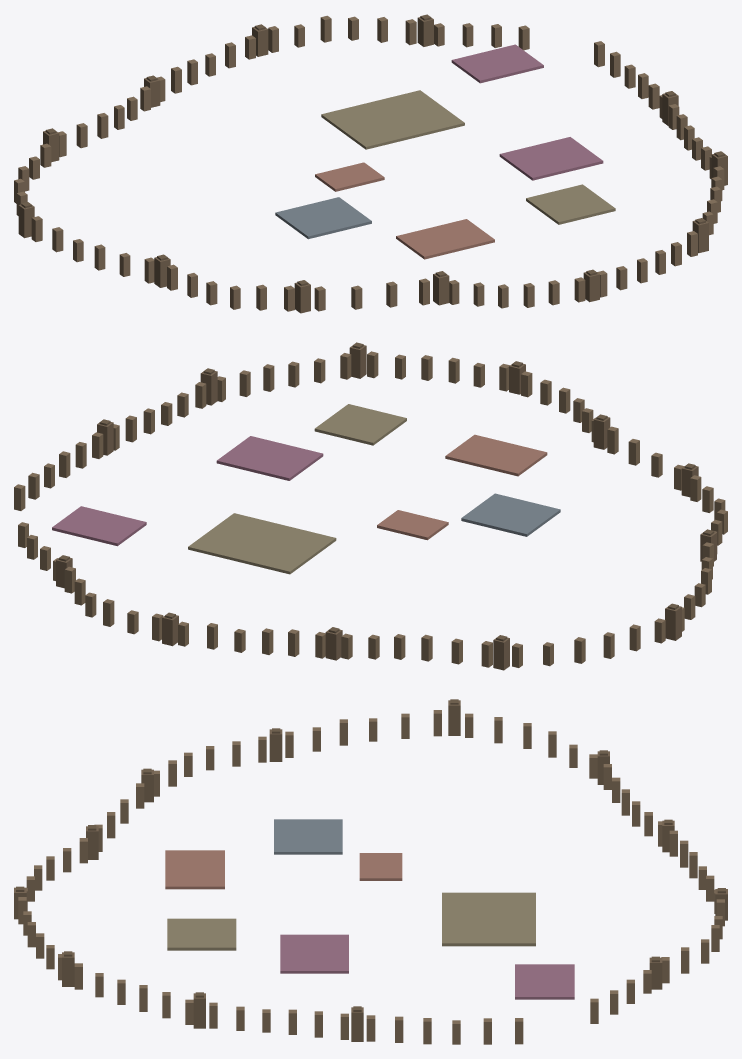
The model's file is ciudad_campamento_barbaros_grande_1816_891_01.glb.
The picture shows the model from 3 angles, top to bottom: view 1: azimuth 30°, elevation 25°; view 2: azimuth 150°, elevation 25°; view 3: azimuth 270°, elevation 25°; orthographic projection. The views are drawn at different scales.
Parts seen in each view (by area): view 1: ciudad_campamento_barbaros_grande_1816_891; view 2: ciudad_campamento_barbaros_grande_1816_891; view 3: ciudad_campamento_barbaros_grande_1816_891.
Part boxes in pixels (bbox=[...]): ciudad_campamento_barbaros_grande_1816_891: bbox=[14, 14, 727, 313]; ciudad_campamento_barbaros_grande_1816_891: bbox=[14, 342, 727, 670]; ciudad_campamento_barbaros_grande_1816_891: bbox=[14, 699, 727, 1044].
Bounding box in the file's own units: 71.2 × 3.4 × 68.4.
